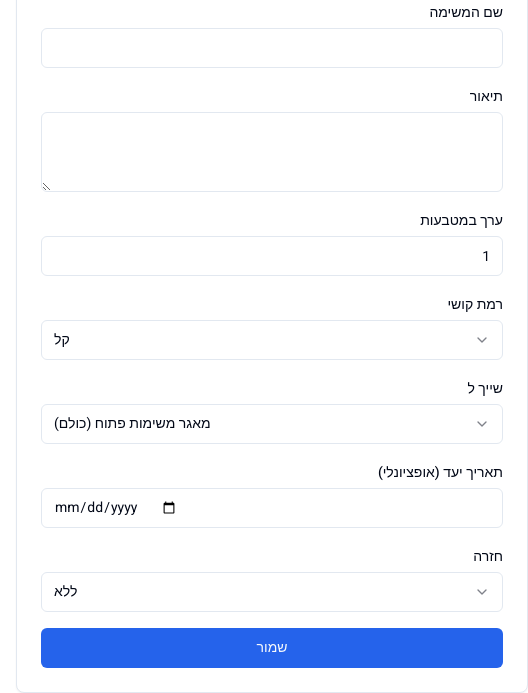
Scenario: ChoreFormPage — create mode › shows member checkboxes when weekly recurrence is selected
(page scrolled)
Click the dropdown named "סוג חזרה" at (66, 592), box top-left (41, 572), bottom-right (503, 612)
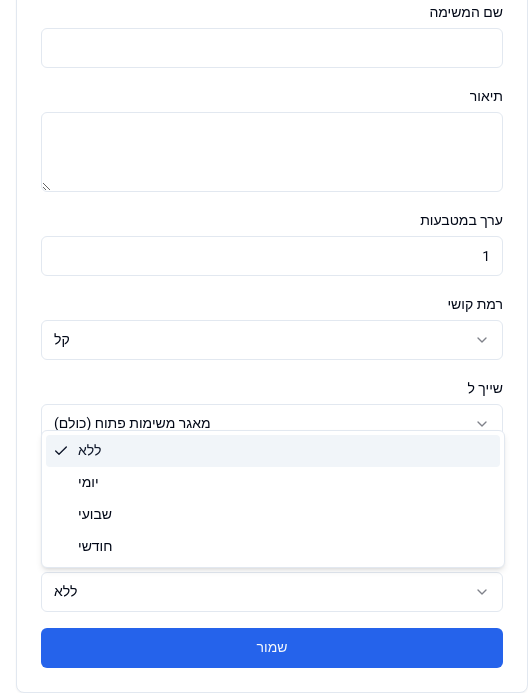
Expected: the option "שבועי" is shown
Click the option "שבועי" at (95, 514), box top-left (78, 504), bottom-right (112, 525)
(page scrolled)
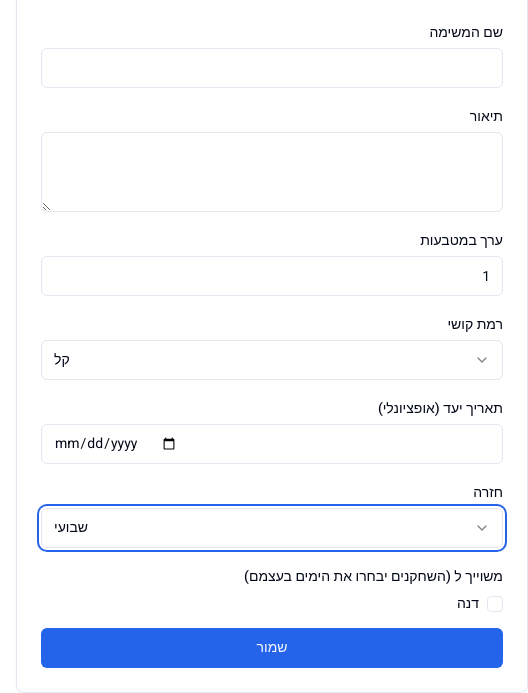
Expected: the checkbox is shown, top-left (487, 596), bottom-right (503, 612)
